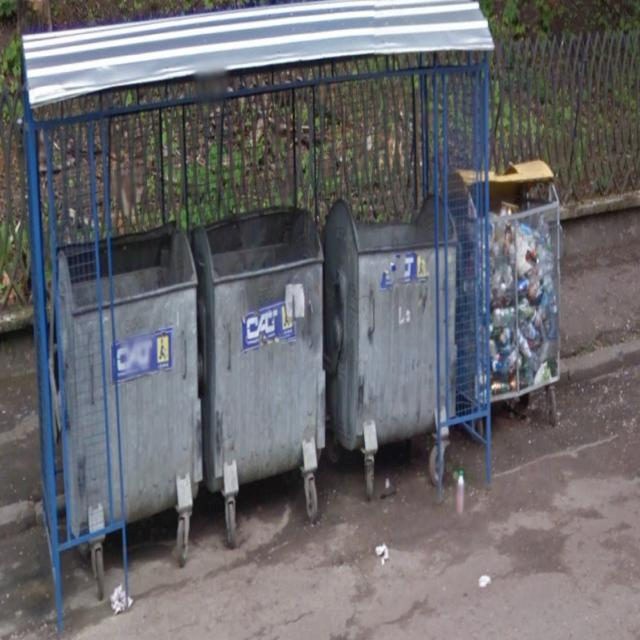general wastetrash bin: (52, 239, 206, 569), (328, 177, 460, 532), (198, 194, 324, 556)
plastic trash bin: (462, 157, 582, 463)
